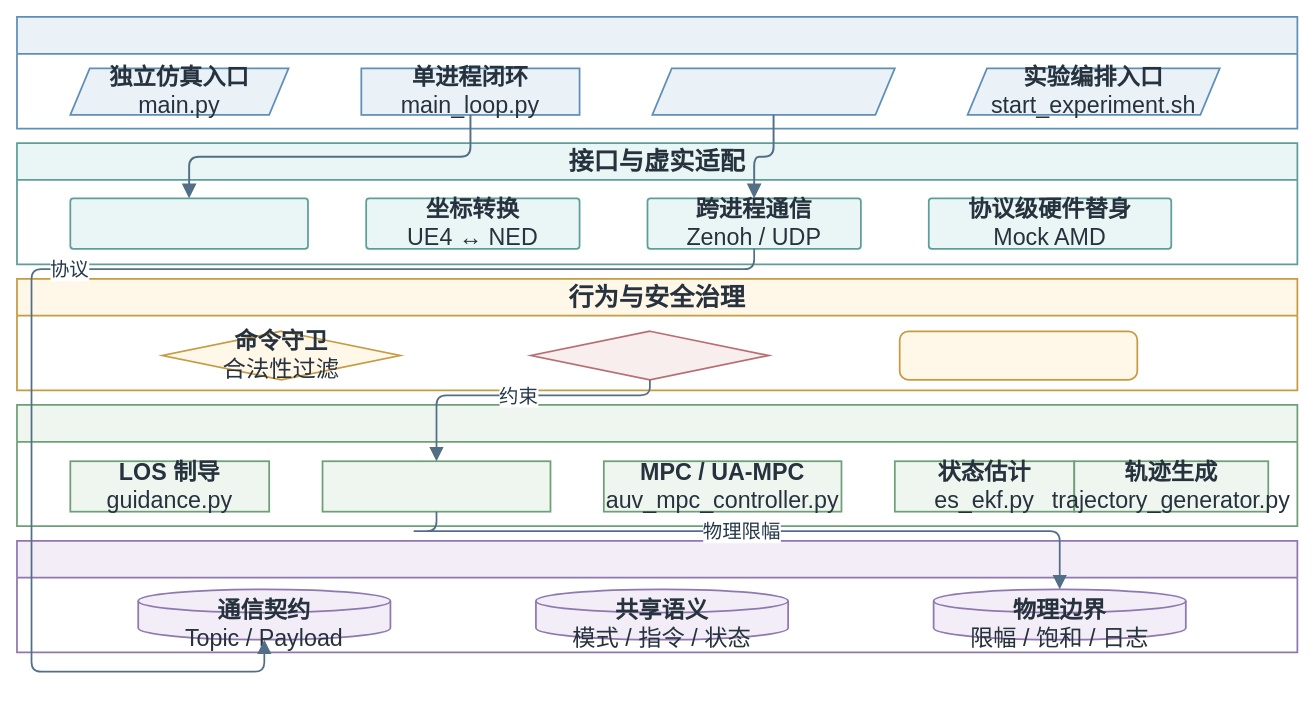
This 1315x701 diagram has some shape labels left out. Here are the shapes that lost their labels. From the top down, the box of each, then its label:
(16, 16, 1298, 129): 应用与运行入口
(651, 67, 895, 115): 桥接运行入口 run_zenoh_bridge.py
(69, 197, 308, 249): 仿真后端适配 HoloOcean / PVS
(530, 330, 769, 380): 安全监控 限幅 / 急停 / 回退
(898, 330, 1138, 380): 任务状态管理 阶段 / 模式
(16, 404, 1298, 527): 算法与优化
(321, 460, 551, 512): 级联 PID auv_pid_controller.py
(16, 539, 1298, 653): 共享协议与物理约束
